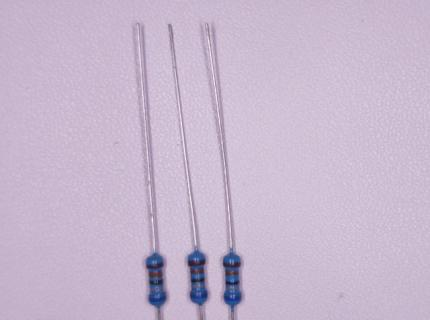Black band: (149, 280, 163, 285), (191, 277, 205, 282), (226, 280, 240, 285)
Blue band: (149, 295, 167, 302), (190, 293, 208, 299), (224, 295, 241, 301)
Brown band: (146, 262, 164, 269), (188, 259, 206, 266), (223, 262, 241, 268)
Grey band: (191, 284, 205, 288), (150, 287, 163, 291), (226, 286, 239, 290)
Orange band: (149, 271, 162, 277), (191, 269, 204, 274), (226, 271, 239, 276)
